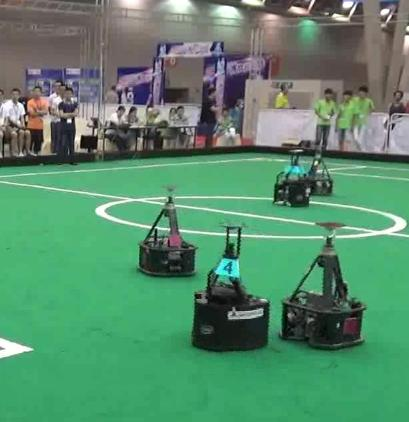robot: (279, 222, 367, 353), (192, 221, 271, 353), (136, 178, 199, 276), (267, 146, 316, 209)
